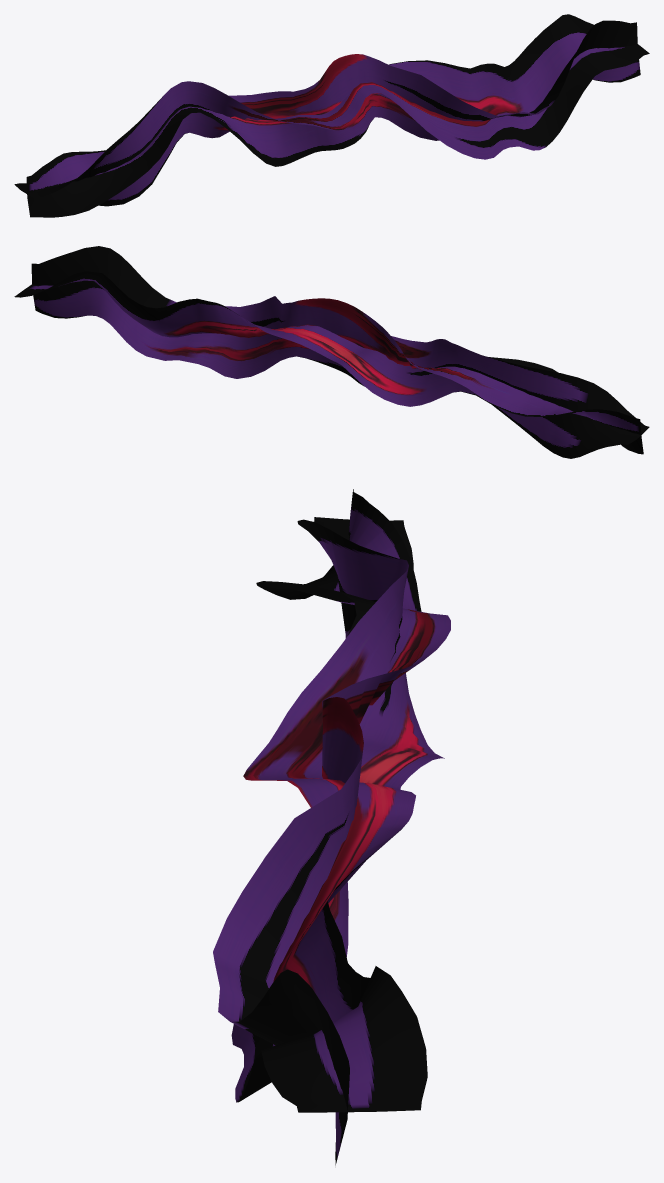
File: Smell1.fbx
The picture shows the model from 3 angles, top to bottom: view 1: azimuth 30°, elevation 25°; view 2: azimuth 150°, elevation 25°; view 3: azimuth 270°, elevation 25°; orthographic projection. The views are drawn at different scales.
Parts seen in each view (by area): view 1: SM_e_Cmn_Smell001; view 2: SM_e_Cmn_Smell001; view 3: SM_e_Cmn_Smell001.
Boxes of the visible parts, x1,y1,x2,y2 form: SM_e_Cmn_Smell001: [14, 14, 649, 217]; SM_e_Cmn_Smell001: [14, 246, 649, 458]; SM_e_Cmn_Smell001: [213, 489, 450, 1165].
Bounding box in the file's own units: 95.46 × 16.95 × 16.13.
1 material, 1 textured.
